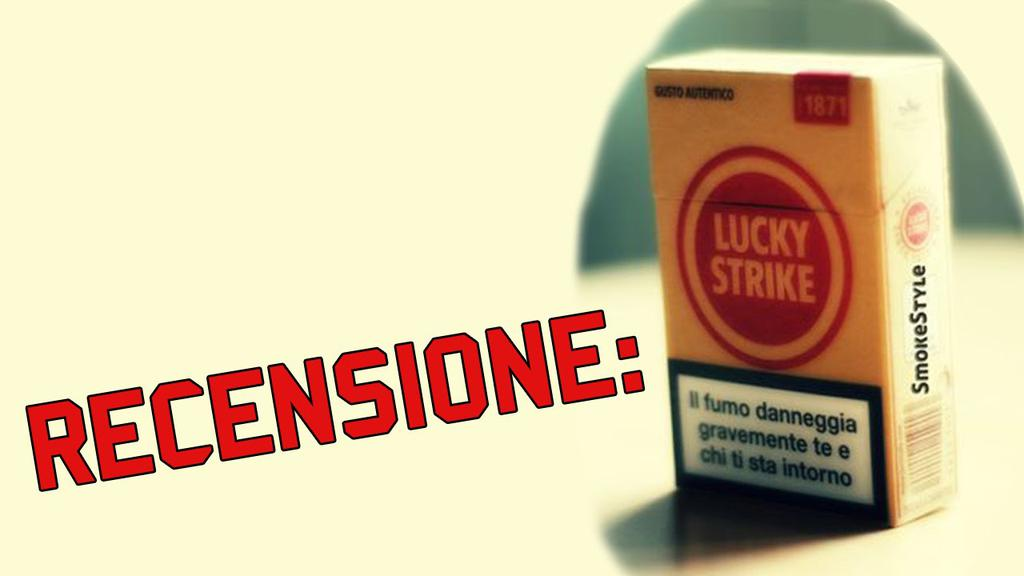lucky_strike_red: (665, 75, 886, 479)
